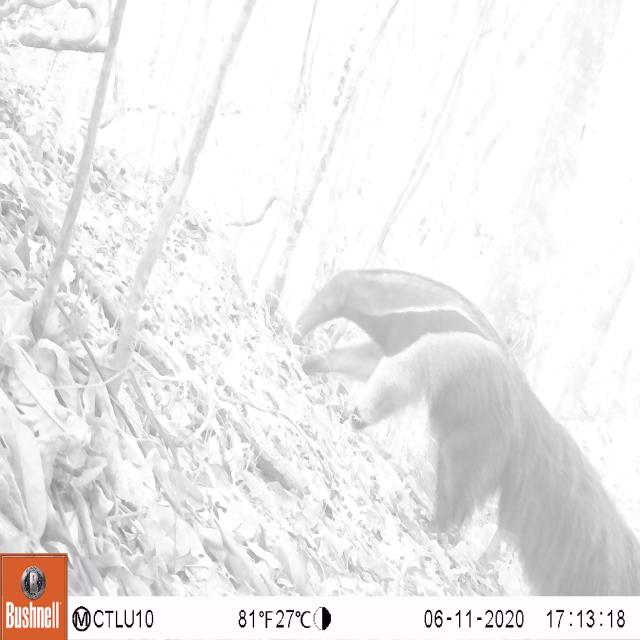Giant Anteater: (286, 244, 640, 593)
